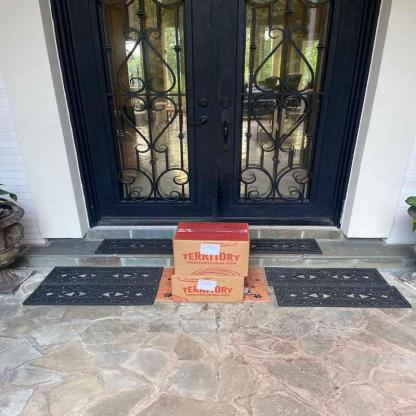label: (200, 243, 220, 256), (197, 280, 217, 291)
package: (174, 222, 250, 276), (172, 275, 244, 304)
